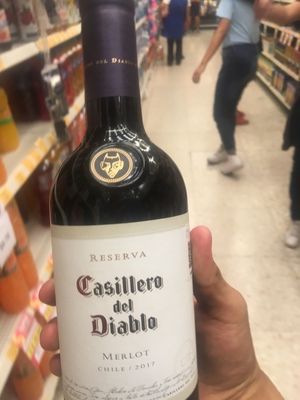casillero del diablo merlot: (47, 14, 200, 400)
